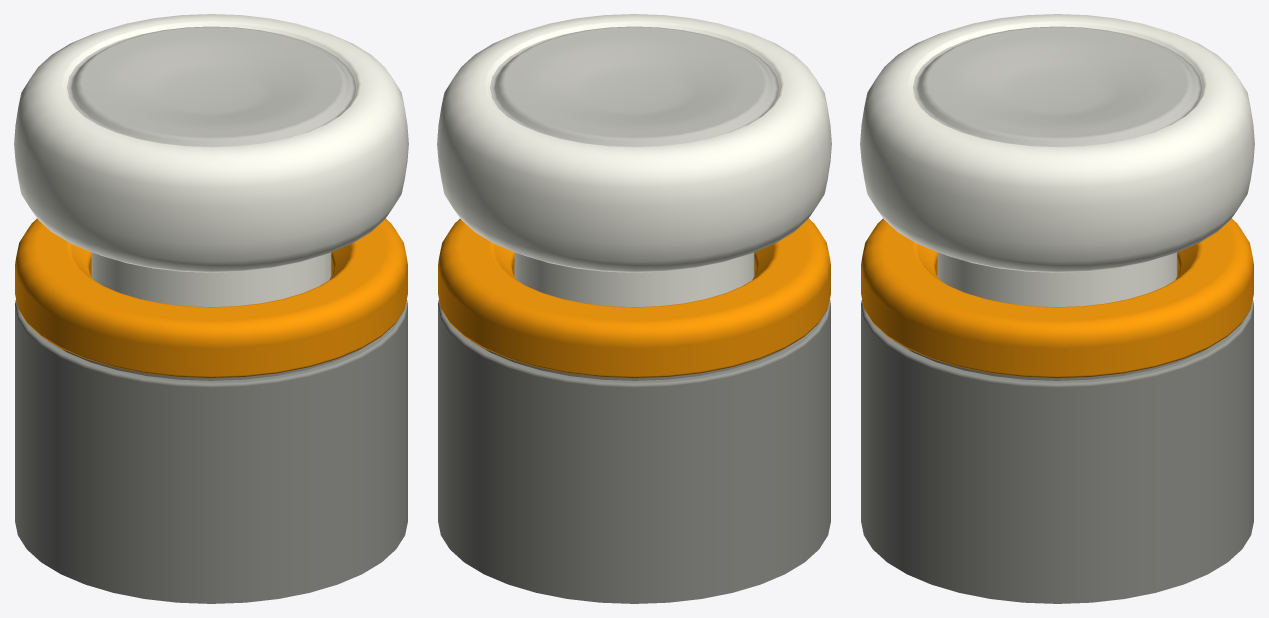
The model's file is Knob or Button #1.fbx.
3 views of the same model, side by side, from view 1: azimuth 30°, elevation 25°; view 2: azimuth 150°, elevation 25°; view 3: azimuth 270°, elevation 25° (orthographic).
Visible parts, largest first — view 1: kitbash_57; view 2: kitbash_57; view 3: kitbash_57.
Boxes of the visible parts, x1,y1,x2,y2 form: kitbash_57: (14, 14, 408, 603); kitbash_57: (437, 14, 831, 603); kitbash_57: (860, 14, 1254, 603).
Size of the model in its own units: 4.77 by 5.85 by 4.77.
